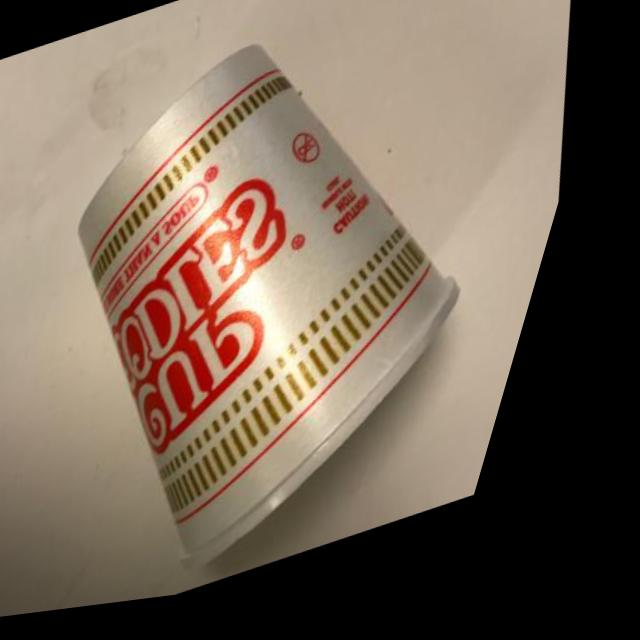trash: (0, 0, 622, 631)
